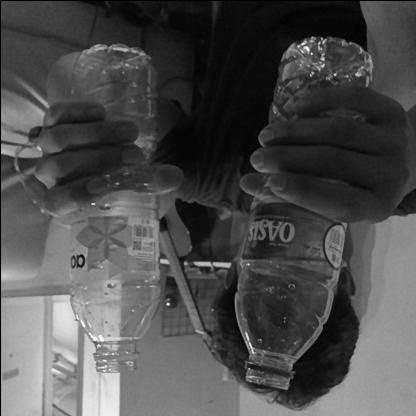plastic_bottles: (234, 35, 370, 392), (64, 44, 162, 376)
